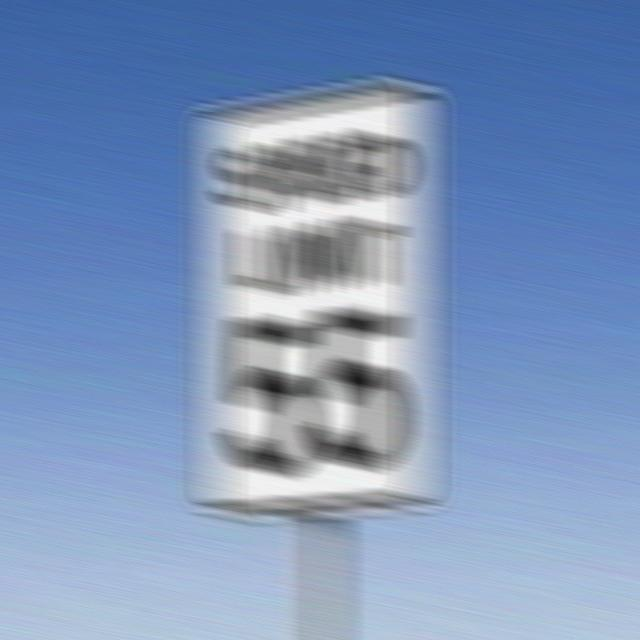speedLimit55: (197, 70, 438, 532)
